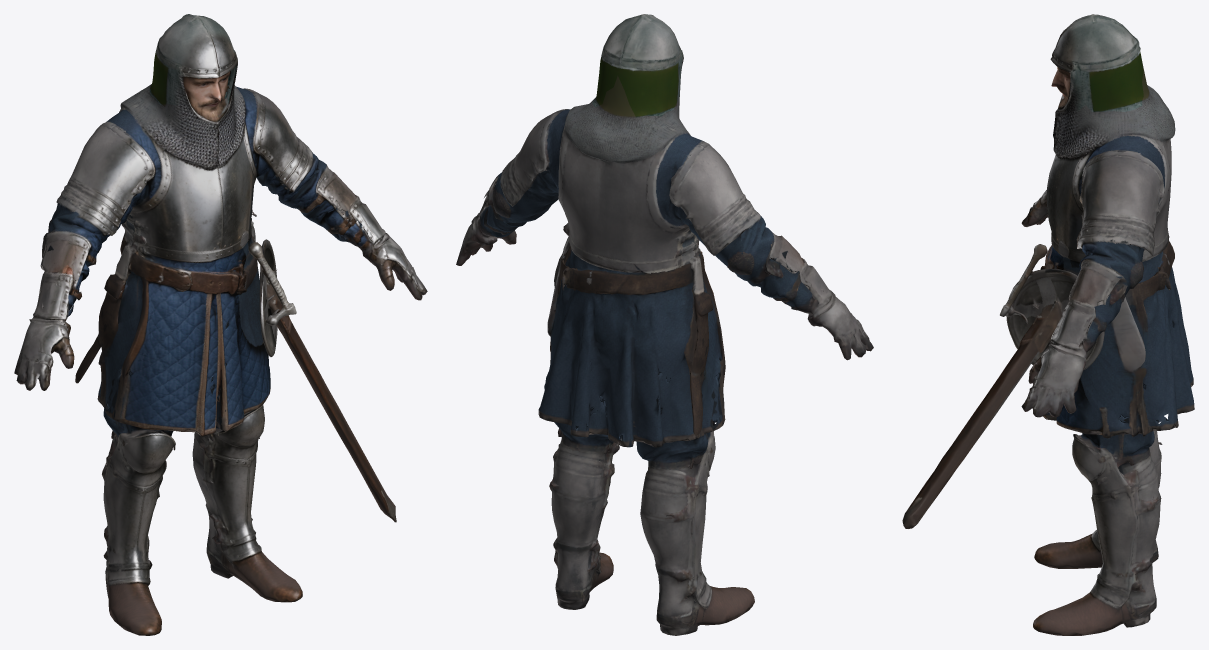
The model's file is man-at-arms_body.glb.
3 views of the same model, side by side, from view 1: azimuth 30°, elevation 25°; view 2: azimuth 150°, elevation 25°; view 3: azimuth 270°, elevation 25° (orthographic).
Visible parts, largest first — view 1: man-at-arms; view 2: man-at-arms; view 3: man-at-arms.
Part boxes in pixels (box(x1,y1,x2,y2)): man-at-arms: box(14, 14, 427, 635); man-at-arms: box(456, 14, 873, 635); man-at-arms: box(902, 14, 1194, 635).
Bounding box in the file's own units: 1.29 × 1.78 × 0.8089.
Materials: 2 (2 with a texture image).
